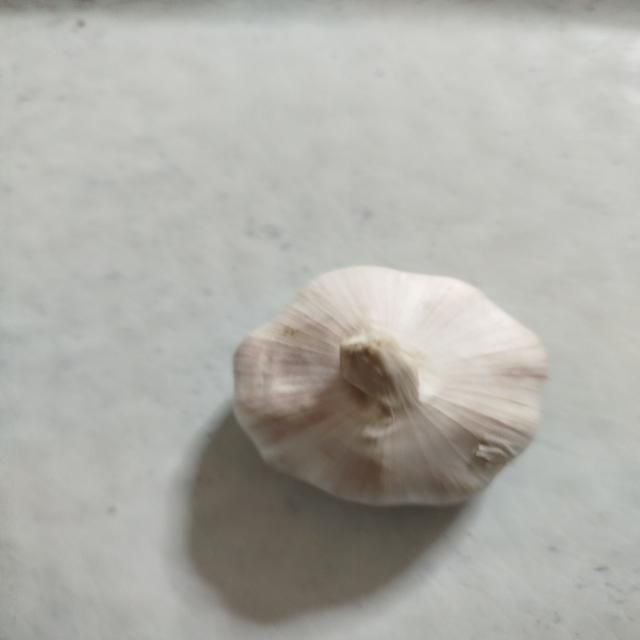garlic: (231, 264, 549, 508)
